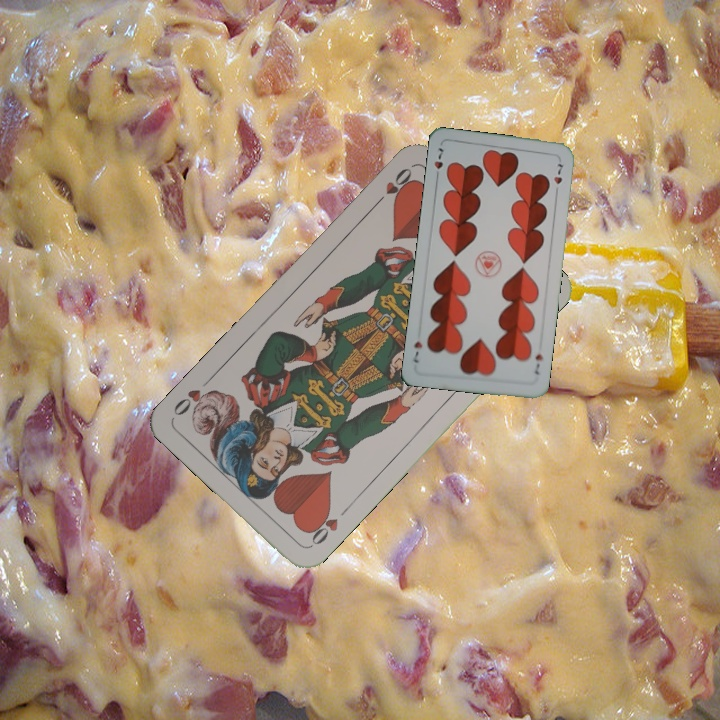H7: (430, 144, 446, 182), (531, 350, 545, 377)
HO: (303, 502, 353, 550), (369, 163, 416, 210)
